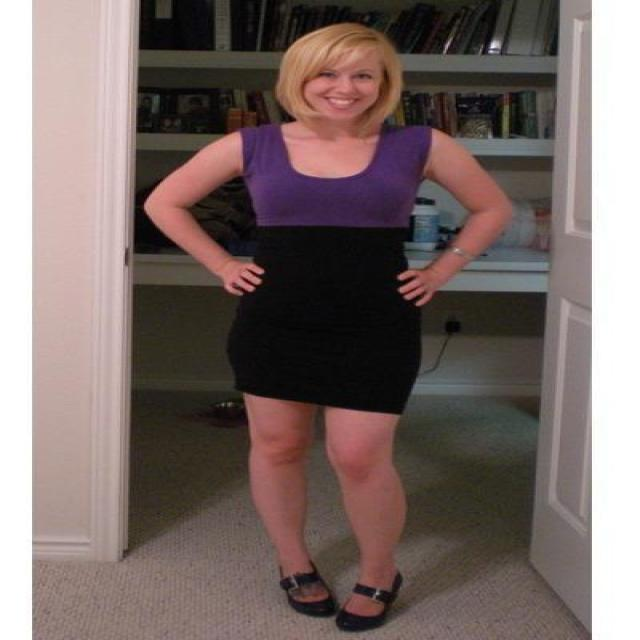dress: (227, 119, 434, 413)
shoe: (280, 576, 410, 631)
